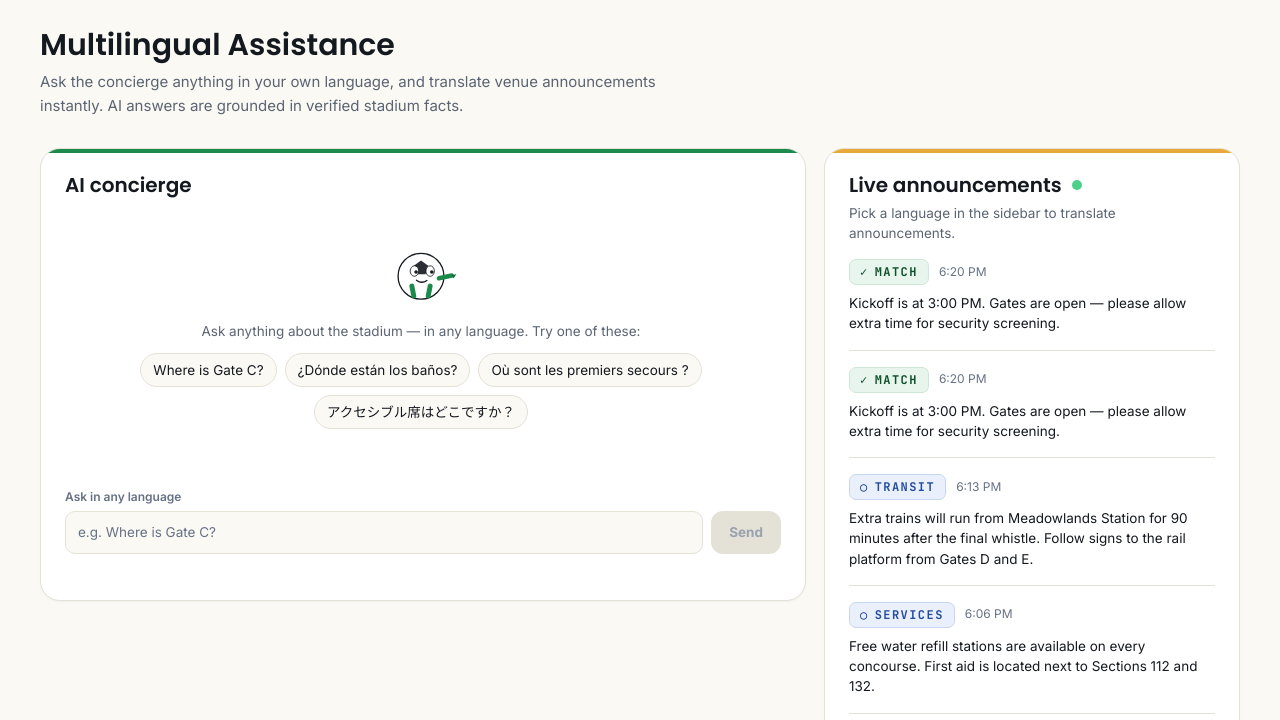
Scenario: MultilingualAssistanceScreen — concierge send flow › disables Send while a reply is pending
In the field labelled "Ask in any language": [384, 532] box top-left (65, 511), bottom-right (703, 554), type "Where is Gate C?"
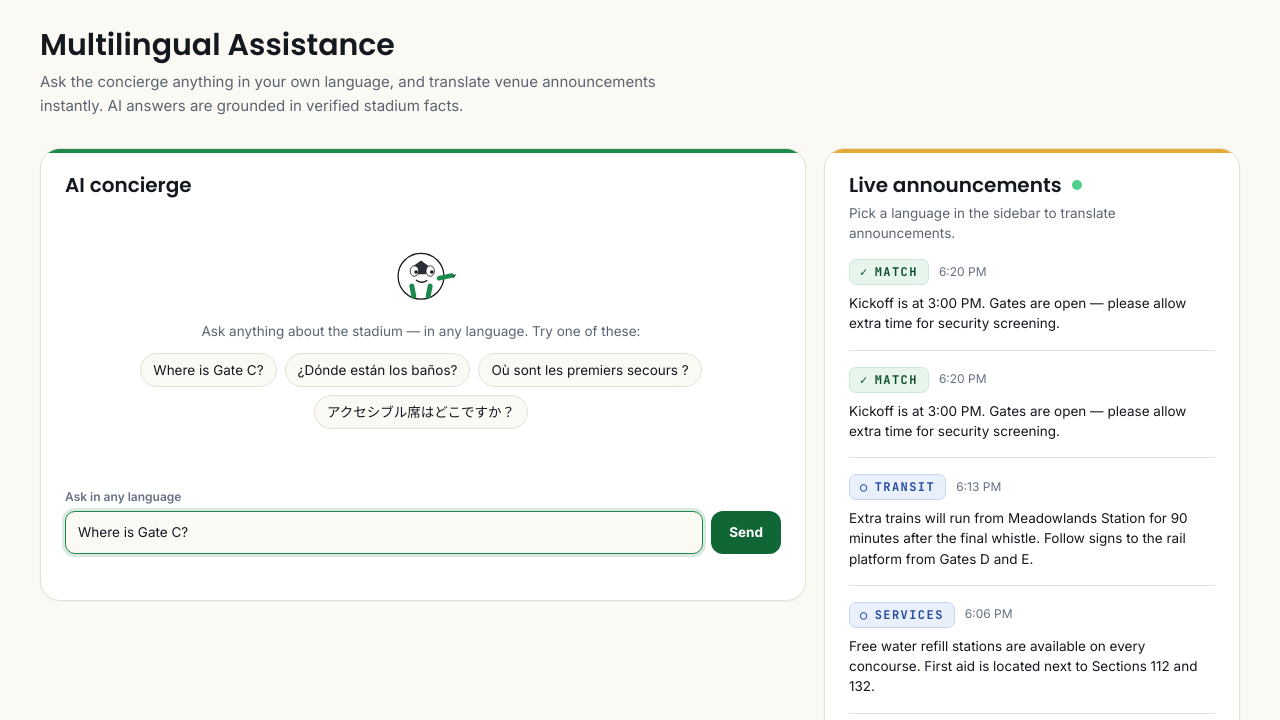
Click the button "Send": [746, 532] box top-left (711, 511), bottom-right (781, 554)
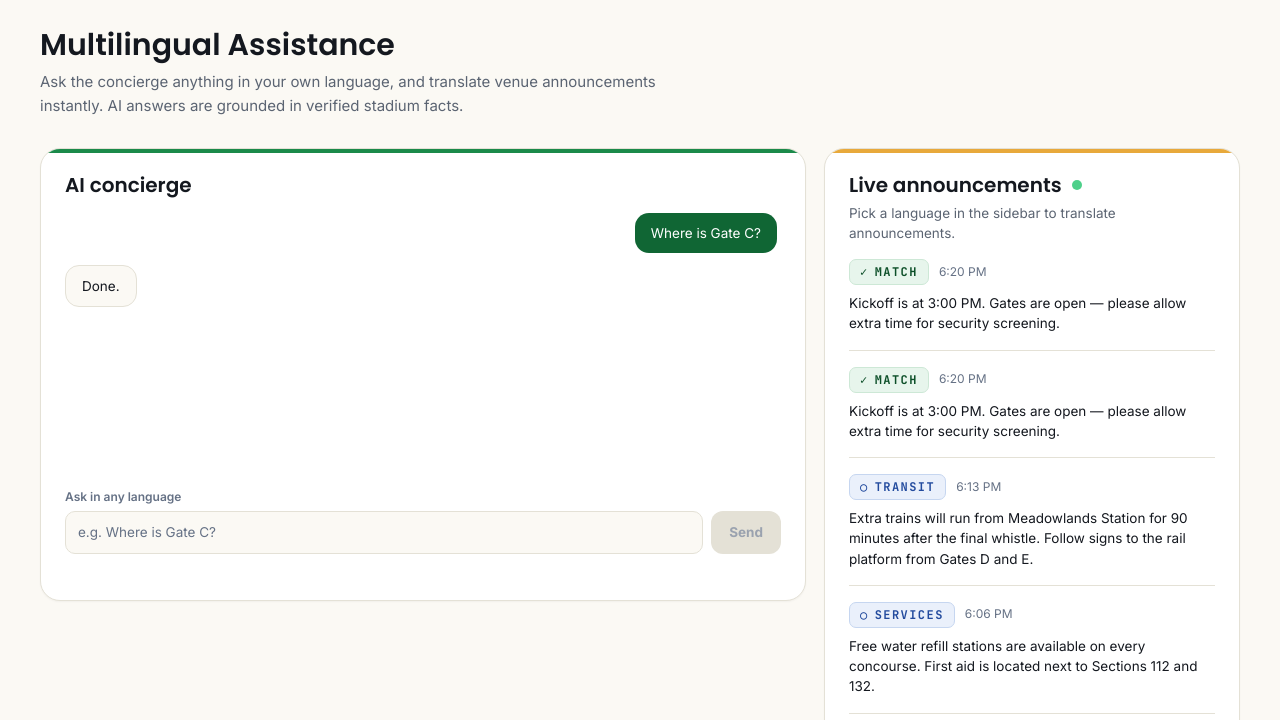
Check: the button "Send" is disabled, box top-left (711, 511), bottom-right (781, 554)
Check: the text "Done." is shown, box top-left (82, 276), bottom-right (120, 296)
